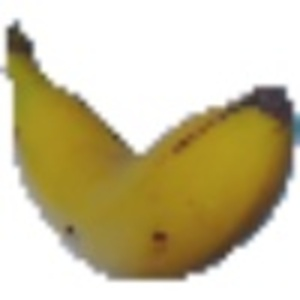banana: (4, 18, 296, 280)
